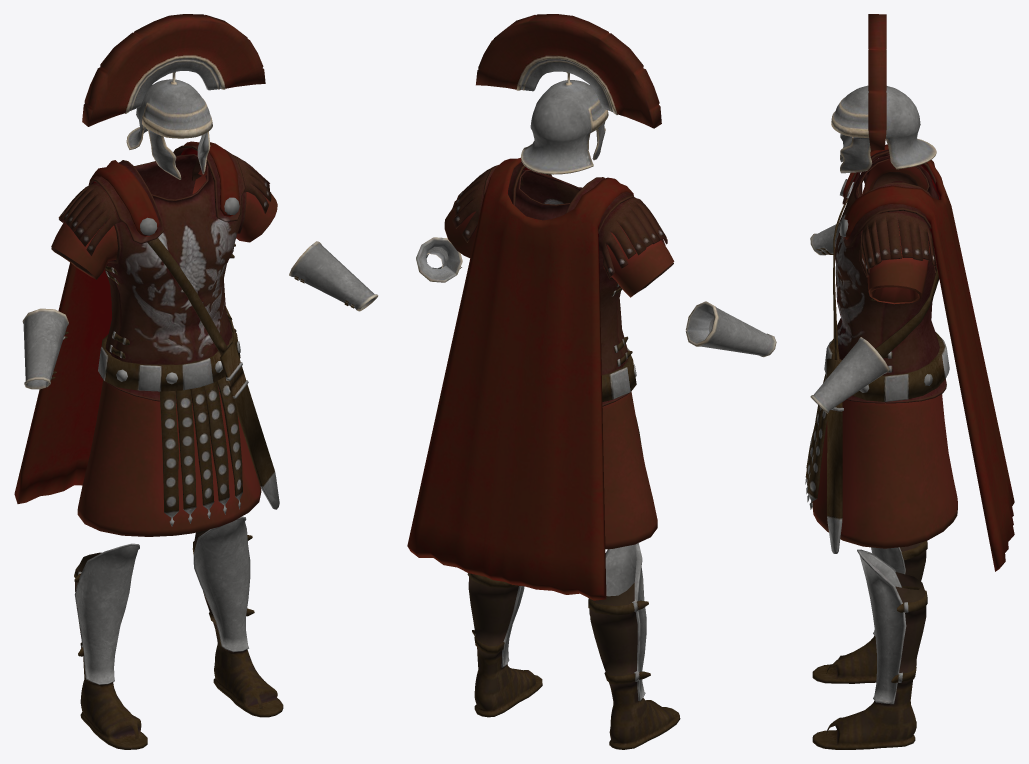
Rendered from roman_centurion_armor.glb.
3 renders of one model, left to right at view 1: azimuth 30°, elevation 25°; view 2: azimuth 150°, elevation 25°; view 3: azimuth 270°, elevation 25°, orthographic. The views are drawn at different scales.
Visible parts, largest first — view 1: Cylinder.007, Cylinder.041, Cylinder.034, Cylinder.020, Cylinder.010, Cylinder.038, Cylinder.032, Cylinder.037, Cylinder.033, Cylinder.049, Cylinder.045, Cylinder.052; view 2: Cylinder.034, Cylinder.041, Cylinder.038, Cylinder.020, Cylinder.037, Cylinder.007, Cylinder.032, Cylinder.049, Cylinder.045, Cylinder.052, Cylinder.010; view 3: Cylinder.020, Cylinder.041, Cylinder.034, Cylinder.007, Cylinder.037, Cylinder.010, Cylinder.033, Cylinder.049, Cylinder.032, Cylinder.038, Cylinder.045, Cylinder.052 (+1 smaller).
Part boxes in pixels (x1=…): Cylinder.007: x1=100, y1=154, x2=246, y2=403; Cylinder.041: x1=74, y1=516, x2=283, y2=749; Cylinder.034: x1=14, y1=141, x2=240, y2=503; Cylinder.020: x1=77, y1=379, x2=261, y2=536; Cylinder.010: x1=98, y1=332, x2=242, y2=526; Cylinder.038: x1=82, y1=14, x2=265, y2=126; Cylinder.032: x1=22, y1=241, x2=378, y2=389; Cylinder.037: x1=126, y1=72, x2=212, y2=179; Cylinder.033: x1=147, y1=238, x2=279, y2=509; Cylinder.049: x1=58, y1=155, x2=271, y2=255; Cylinder.045: x1=51, y1=166, x2=277, y2=279; Cylinder.052: x1=89, y1=145, x2=245, y2=243; Cylinder.034: x1=407, y1=157, x2=633, y2=600; Cylinder.041: x1=467, y1=543, x2=680, y2=749; Cylinder.038: x1=476, y1=14, x2=661, y2=128; Cylinder.020: x1=602, y1=391, x2=657, y2=549; Cylinder.037: x1=521, y1=72, x2=608, y2=174; Cylinder.007: x1=515, y1=169, x2=632, y2=406; Cylinder.032: x1=416, y1=237, x2=776, y2=357; Cylinder.049: x1=452, y1=166, x2=667, y2=277; Cylinder.045: x1=444, y1=201, x2=674, y2=297; Cylinder.052: x1=483, y1=161, x2=635, y2=233; Cylinder.010: x1=602, y1=348, x2=642, y2=451; Cylinder.020: x1=812, y1=394, x2=957, y2=548; Cylinder.041: x1=812, y1=541, x2=927, y2=749; Cylinder.034: x1=843, y1=144, x2=1014, y2=571; Cylinder.007: x1=834, y1=155, x2=946, y2=403; Cylinder.037: x1=831, y1=85, x2=936, y2=173; Cylinder.010: x1=805, y1=332, x2=949, y2=509; Cylinder.033: x1=826, y1=197, x2=939, y2=553; Cylinder.049: x1=861, y1=153, x2=936, y2=276; Cylinder.032: x1=810, y1=223, x2=889, y2=413; Cylinder.038: x1=868, y1=14, x2=886, y2=150; Cylinder.045: x1=861, y1=159, x2=929, y2=304; Cylinder.052: x1=839, y1=149, x2=938, y2=247.
Size of the model in its own units: 1.07 by 2 by 0.5549.
Materials: 1 (1 with a texture image).
